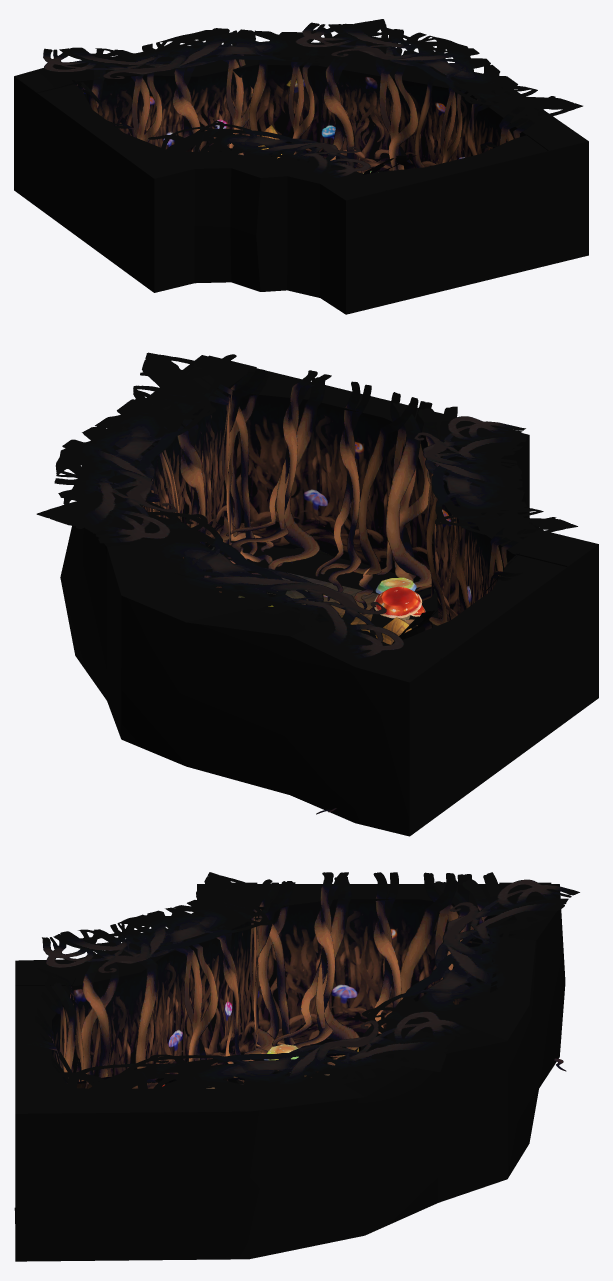
The model's file is Dungeon_021_RoadL_002.fbx.
3 renders of one model, top to bottom at view 1: azimuth 30°, elevation 25°; view 2: azimuth 150°, elevation 25°; view 3: azimuth 270°, elevation 25°, orthographic. The views are drawn at different scales.
Visible parts, largest first — view 1: Dan1, un_021_Door_002 (×2), Dungeon_021_Tsuta_002, Dungeon_021_Tsuta_001, un_021_Door_002_Object1 (×2); view 2: Dan1, un_021_Door_002 (×2), Dungeon_021_Tsuta_002, un_021_Door_002_Object1 (×2), Dungeon_021_Tsuta_001, Dun_011_Door_002_shadow, Dan1_shadow, Kinoko01, Dan2; view 3: Dan1, Dungeon_021_Tsuta_002, un_021_Door_002 (×2), un_021_Door_002_Object1 (×2), Dungeon_021_Tsuta_001.
Boxes of the visible parts, x1=… form: Dan1: x1=14, y1=41, x2=588, y2=314; un_021_Door_002 (×2): x1=17, y1=72, x2=582, y2=304; Dungeon_021_Tsuta_002: x1=43, y1=19, x2=582, y2=180; Dungeon_021_Tsuta_001: x1=91, y1=30, x2=547, y2=173; un_021_Door_002_Object1 (×2): x1=72, y1=80, x2=499, y2=174; Dan1: x1=60, y1=355, x2=598, y2=836; un_021_Door_002 (×2): x1=189, y1=355, x2=594, y2=812; Dungeon_021_Tsuta_002: x1=36, y1=352, x2=577, y2=661; un_021_Door_002_Object1 (×2): x1=219, y1=368, x2=522, y2=814; Dungeon_021_Tsuta_001: x1=113, y1=363, x2=539, y2=637; Dun_011_Door_002_shadow: x1=275, y1=549, x2=397, y2=594; Dan1_shadow: x1=206, y1=544, x2=438, y2=635; Kinoko01: x1=374, y1=586, x2=422, y2=621; Dan2: x1=238, y1=572, x2=378, y2=632; Dan1: x1=15, y1=884, x2=565, y2=1261; Dungeon_021_Tsuta_002: x1=36, y1=872, x2=579, y2=1106; un_021_Door_002 (×2): x1=15, y1=882, x2=551, y2=1109; un_021_Door_002_Object1 (×2): x1=27, y1=872, x2=566, y2=1083; Dungeon_021_Tsuta_001: x1=76, y1=883, x2=527, y2=1088.
Size of what is drawn, in the model's own units: 7.27 by 2.36 by 7.25.
